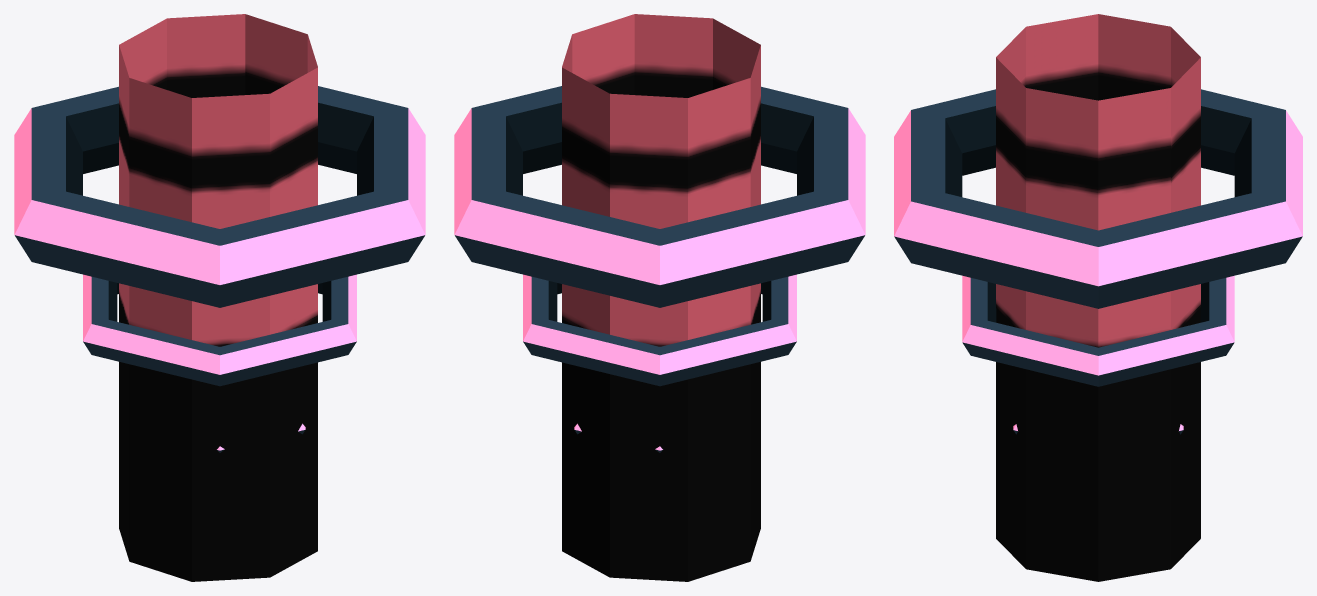
Rendered from prop_environment_04.fbx.
3 renders of one model, left to right at view 1: azimuth 30°, elevation 25°; view 2: azimuth 150°, elevation 25°; view 3: azimuth 270°, elevation 25°, orthographic.
Parts seen in each view (by area): view 1: prop_environment_04; view 2: prop_environment_04; view 3: prop_environment_04.
Part boxes in pixels (bbox=[...]): prop_environment_04: bbox=[14, 14, 425, 581]; prop_environment_04: bbox=[454, 14, 865, 581]; prop_environment_04: bbox=[894, 14, 1302, 581].
Size of the model in its own units: 240 by 270 by 208.
